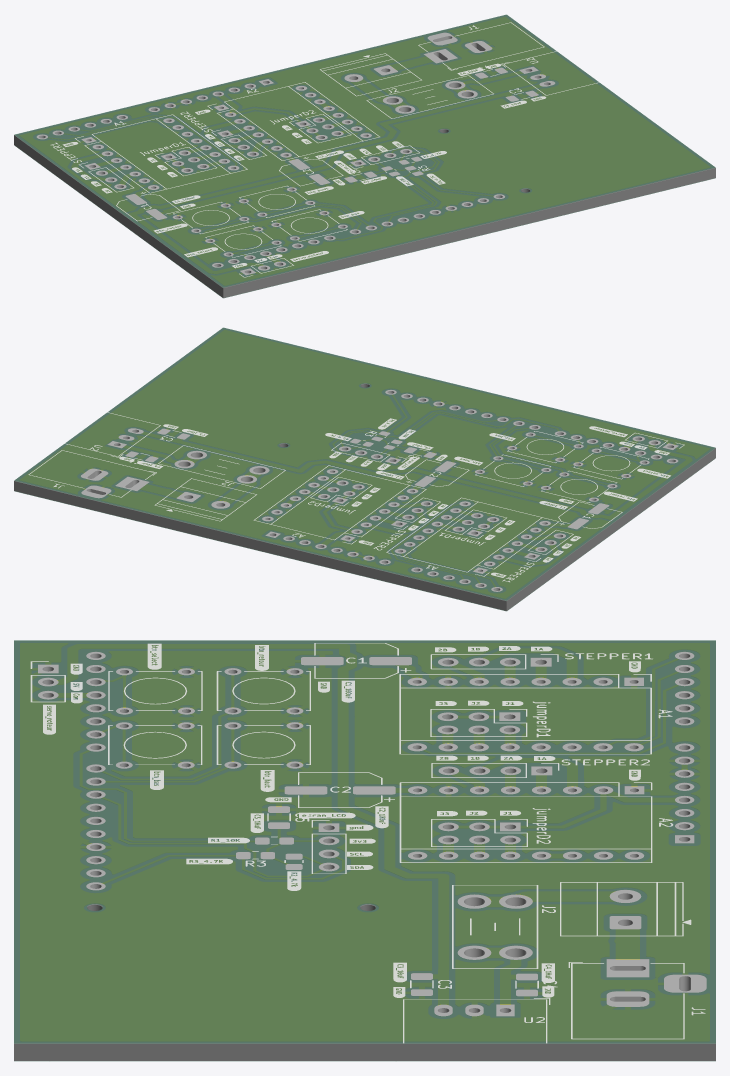
Rendered from PCB-MTD2.glb.
3 views of the same model, one above another, from view 1: azimuth 30°, elevation 25°; view 2: azimuth 150°, elevation 25°; view 3: azimuth 270°, elevation 25° (orthographic). The views are drawn at different scales.
Parts seen in each view (by area): view 1: =>[0:1:1:6], =>[0:1:1:2], =>[0:1:1:8], =>[0:1:1:3], =>[0:1:1:4], =>[0:1:1:7]; view 2: =>[0:1:1:6], =>[0:1:1:2], =>[0:1:1:8], =>[0:1:1:3], =>[0:1:1:4], =>[0:1:1:7]; view 3: =>[0:1:1:6], =>[0:1:1:2], =>[0:1:1:8], =>[0:1:1:3], =>[0:1:1:4], =>[0:1:1:7].
Boxes of the visible parts, x1=… form: =>[0:1:1:6]: x1=14, y1=14, x2=715, y2=287; =>[0:1:1:2]: x1=20, y1=17, x2=709, y2=285; =>[0:1:1:8]: x1=14, y1=15, x2=715, y2=297; =>[0:1:1:3]: x1=36, y1=32, x2=555, y2=275; =>[0:1:1:4]: x1=50, y1=22, x2=599, y2=277; =>[0:1:1:7]: x1=14, y1=145, x2=715, y2=298; =>[0:1:1:6]: x1=14, y1=327, x2=715, y2=600; =>[0:1:1:2]: x1=20, y1=330, x2=709, y2=598; =>[0:1:1:8]: x1=14, y1=328, x2=715, y2=610; =>[0:1:1:3]: x1=81, y1=390, x2=678, y2=591; =>[0:1:1:4]: x1=28, y1=412, x2=684, y2=582; =>[0:1:1:7]: x1=14, y1=458, x2=715, y2=611; =>[0:1:1:6]: x1=14, y1=640, x2=715, y2=1043; =>[0:1:1:2]: x1=20, y1=643, x2=709, y2=1040; =>[0:1:1:8]: x1=14, y1=641, x2=715, y2=1060; =>[0:1:1:3]: x1=38, y1=652, x2=706, y2=1016; =>[0:1:1:4]: x1=30, y1=643, x2=705, y2=1043; =>[0:1:1:7]: x1=14, y1=1061, x2=715, y2=1061.
Bounding box in the file's own units: 0.0782 × 0.00166 × 0.0575.
